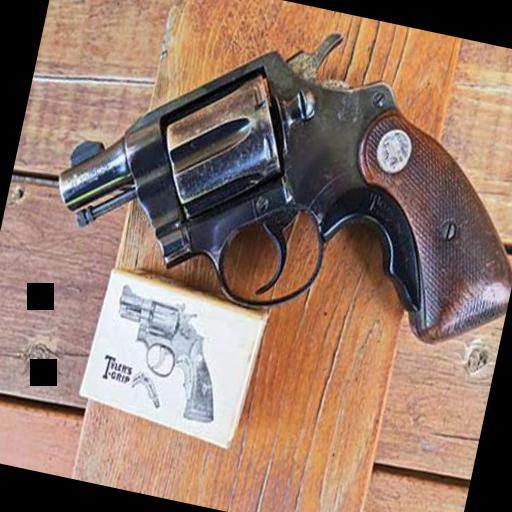Handgun: (35, 0, 512, 357), (96, 280, 234, 424)
